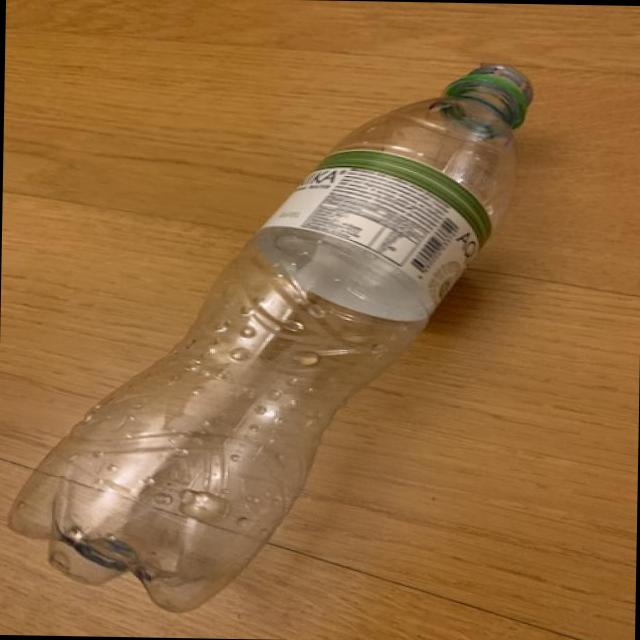plastic_bottle: (0, 50, 538, 617)
